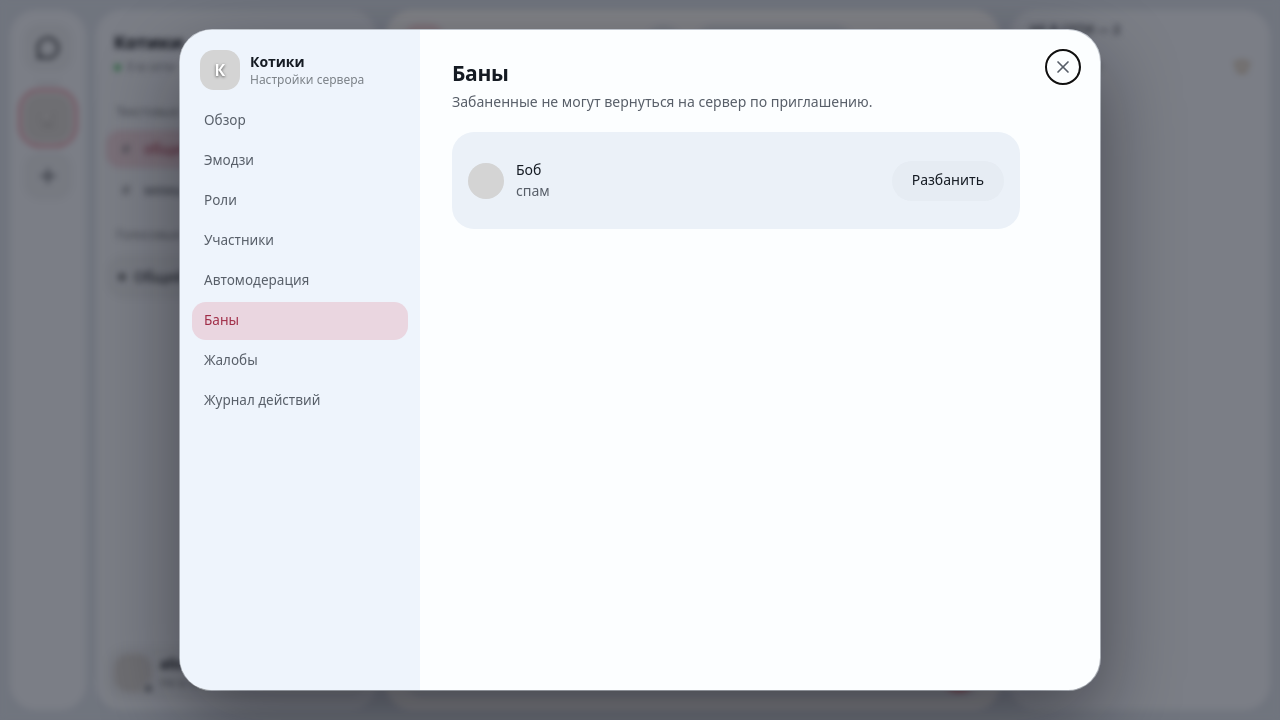
Test: server settings › lists bans and lifts them
This screenshot has width=1280, height=720.
Expected: the text "спам" is shown, [516,181,550,200]
Click the button with aria-label "Разбанить — Боб": (948, 181) [892,161,1004,201]
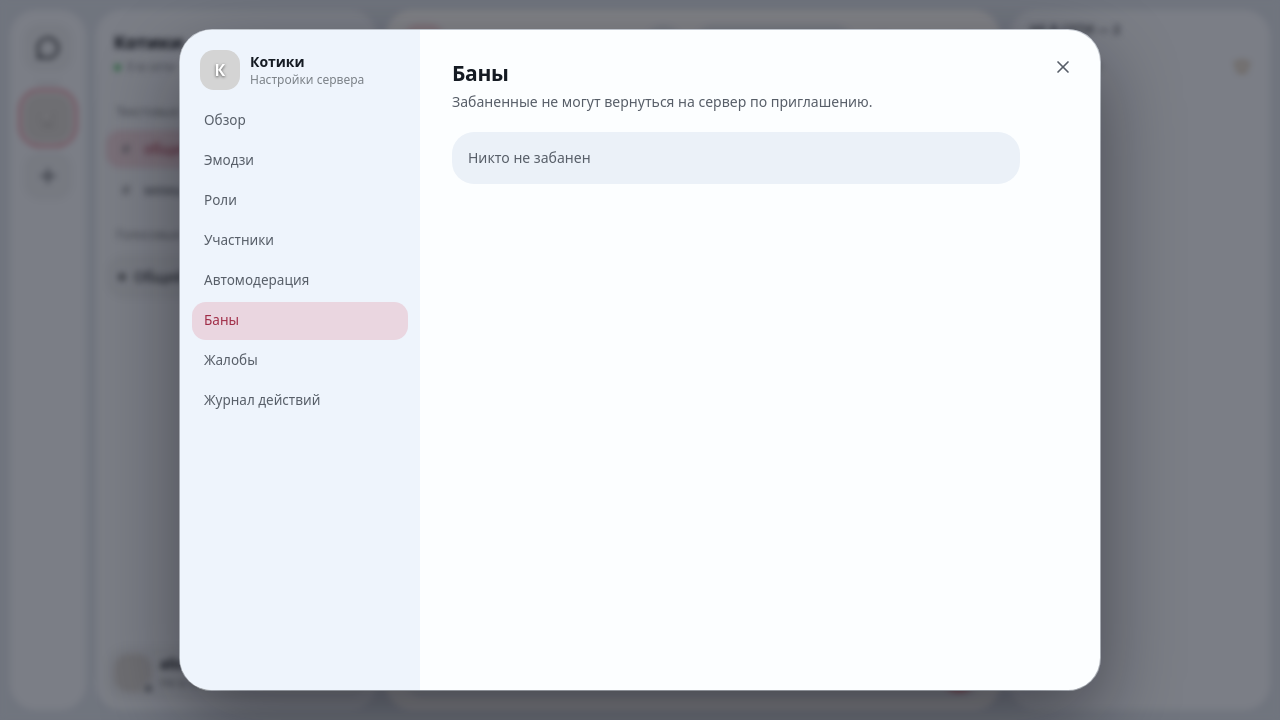
Now the text "Никто не забанен" is shown, box [468,148,591,167]
